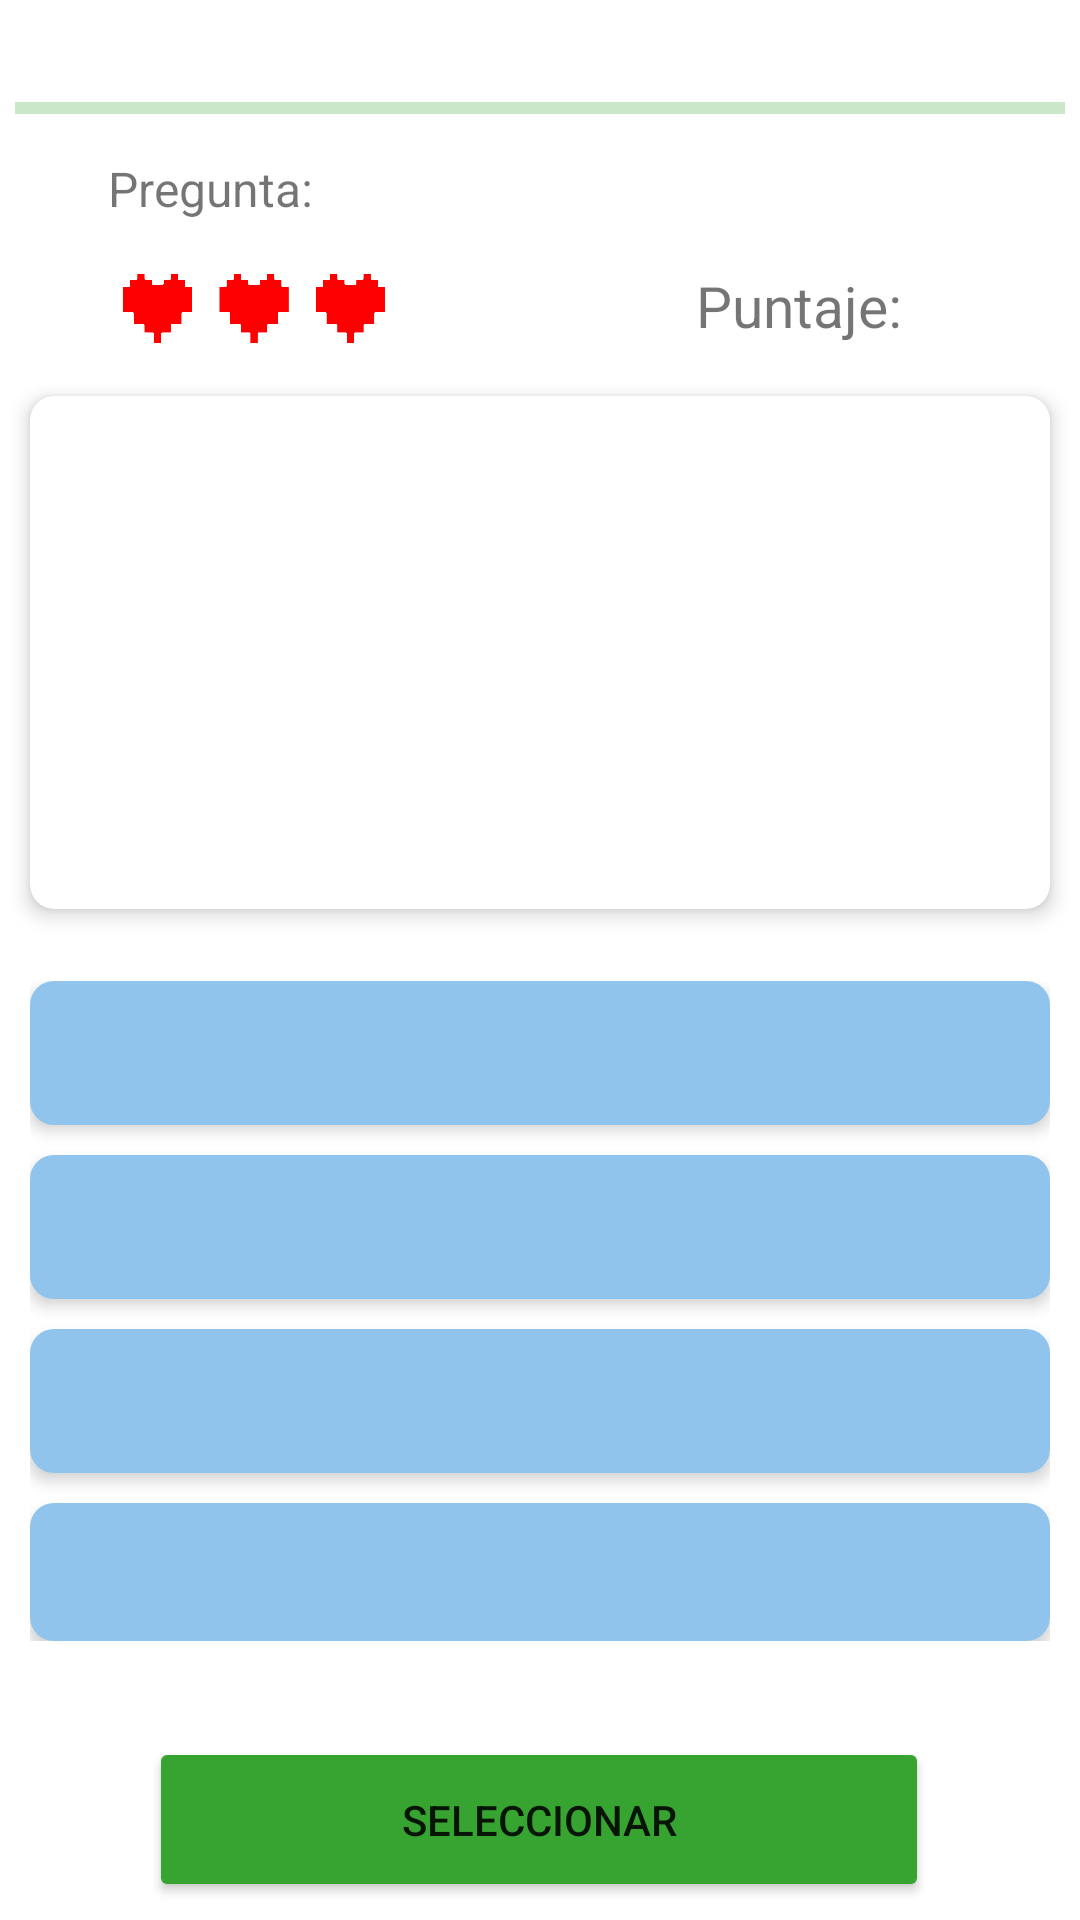

Icon click points for this 1080x1920 phone screenshot, format (x=x, y=y):
tres vidas: (x=254, y=308)
